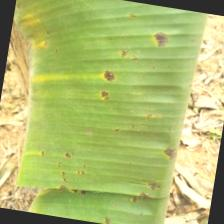pestalotiopsis: (0, 0, 205, 224)
